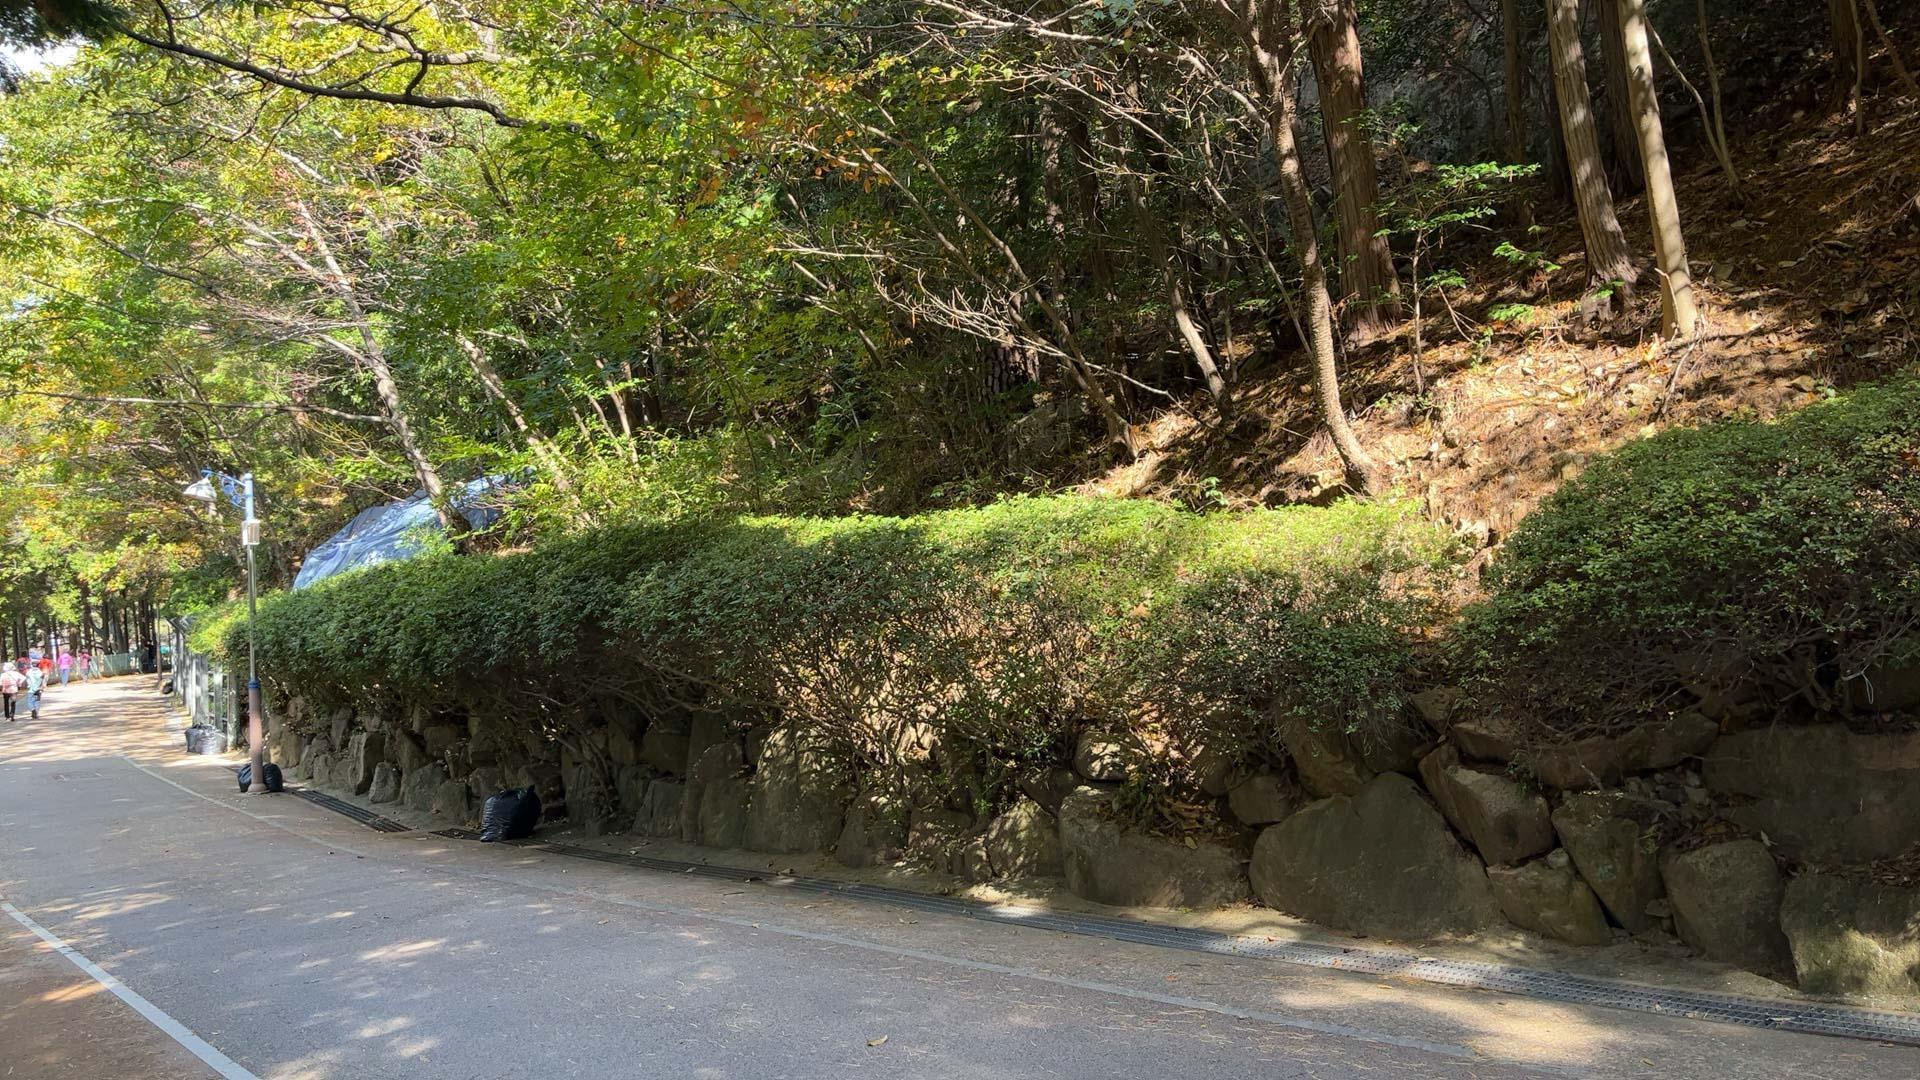black_bag: (472, 781, 545, 847), (235, 760, 286, 793)
